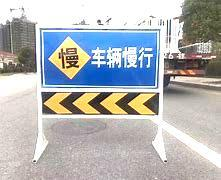sign: (36, 26, 161, 118)
